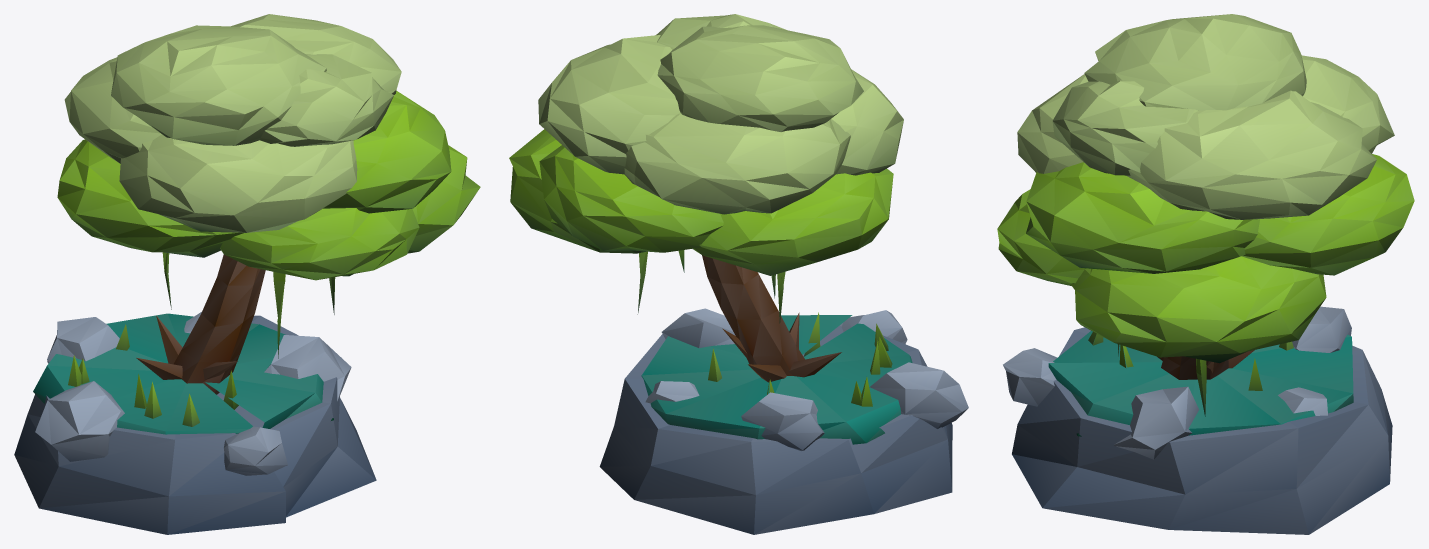
Rendered from pohon_river_highland_187913.glb.
3 views of the same model, side by side, from view 1: azimuth 30°, elevation 25°; view 2: azimuth 150°, elevation 25°; view 3: azimuth 270°, elevation 25° (orthographic). The views are drawn at different scales.
Visible parts, largest first — view 1: Dedaunan_Dan_Sulur, Pulau_Batu_Tepi_Sungai, Batang_Dan_Akar; view 2: Dedaunan_Dan_Sulur, Pulau_Batu_Tepi_Sungai, Batang_Dan_Akar; view 3: Dedaunan_Dan_Sulur, Pulau_Batu_Tepi_Sungai, Batang_Dan_Akar.
Boxes of the visible parts, box(x1,y1,x2,y2) form: Dedaunan_Dan_Sulur: box(57, 14, 480, 358); Pulau_Batu_Tepi_Sungai: box(14, 312, 376, 534); Batang_Dan_Akar: box(136, 254, 265, 394); Dedaunan_Dan_Sulur: box(509, 14, 903, 323); Pulau_Batu_Tepi_Sungai: box(599, 308, 968, 534); Batang_Dan_Akar: box(702, 255, 841, 382); Dedaunan_Dan_Sulur: box(997, 14, 1414, 416); Pulau_Batu_Tepi_Sungai: box(1003, 306, 1392, 534); Batang_Dan_Akar: box(1157, 350, 1254, 379).
Bounding box in the file's own units: 7.2 × 6.61 × 5.63.
